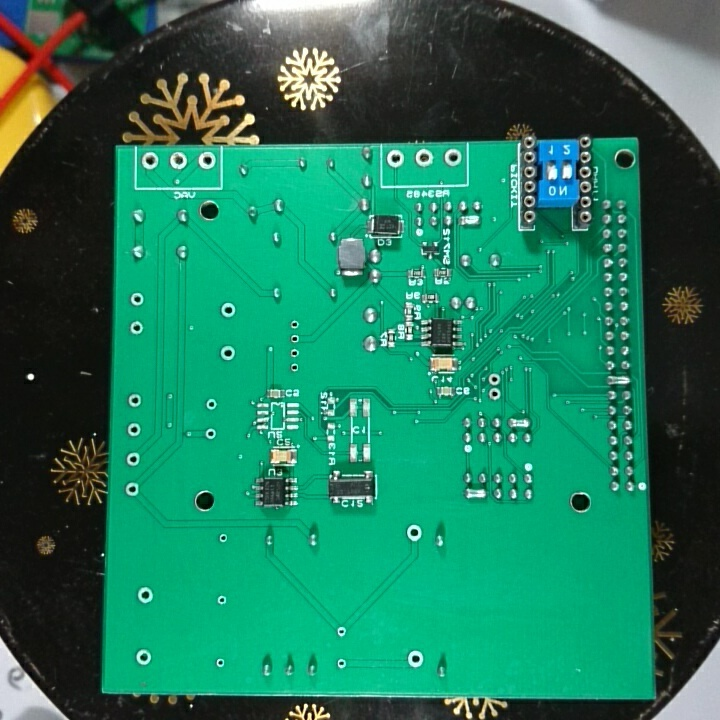F: (404, 647, 426, 671), (384, 148, 406, 170), (404, 521, 423, 546), (133, 647, 154, 669), (134, 585, 156, 606), (139, 150, 160, 171), (413, 147, 435, 167), (196, 150, 218, 170), (168, 151, 189, 171), (218, 344, 239, 363), (443, 147, 462, 167), (219, 300, 238, 320), (125, 390, 144, 409), (124, 479, 141, 500), (123, 449, 141, 468), (128, 289, 145, 309), (125, 420, 143, 438), (129, 319, 146, 338), (487, 386, 502, 404), (486, 371, 503, 386), (203, 425, 217, 443), (204, 397, 219, 413), (287, 345, 302, 360), (213, 655, 226, 672), (217, 529, 229, 547), (334, 624, 347, 640), (336, 654, 347, 672), (288, 332, 302, 346), (289, 359, 301, 374), (216, 592, 227, 607), (288, 318, 301, 330)
P: (604, 373, 634, 389), (461, 484, 487, 502), (507, 414, 534, 431), (458, 212, 483, 228)
